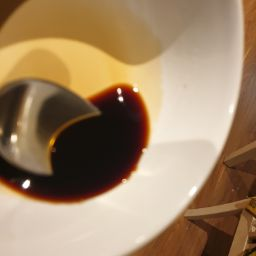Soy Sauce: (14, 76, 151, 200)
